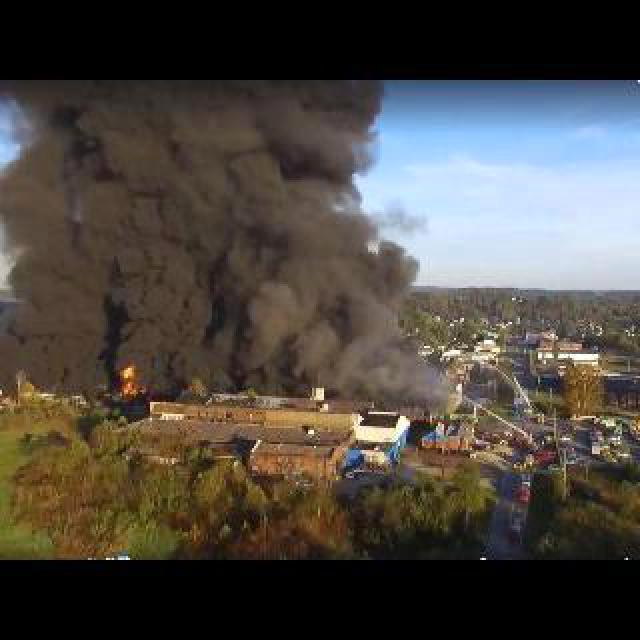Smoke: (0, 77, 464, 423)
